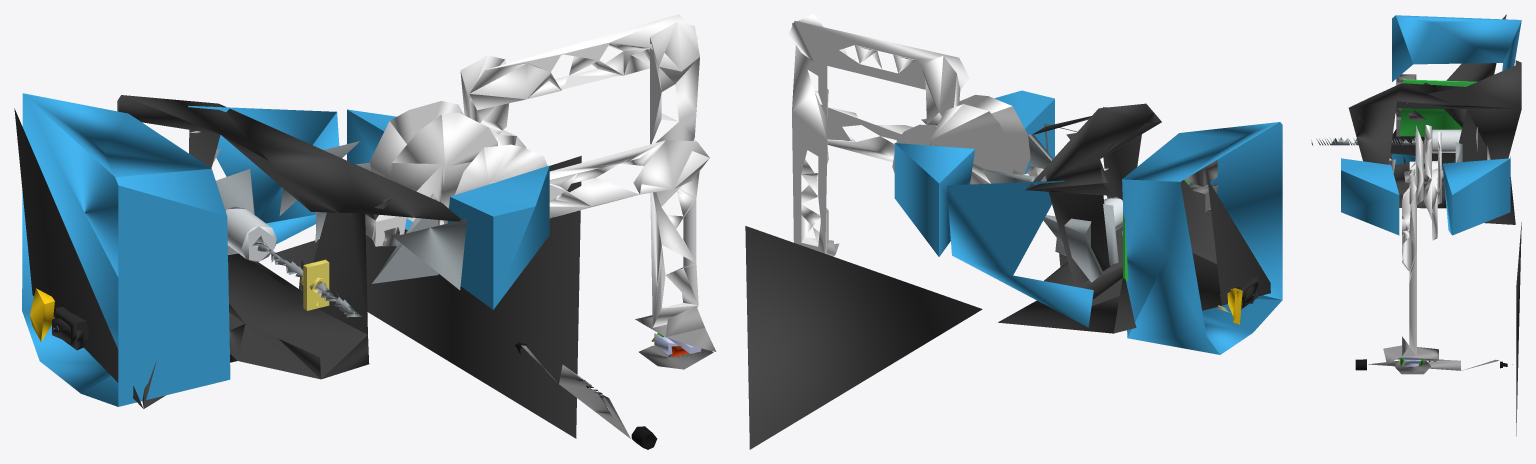
Rendered from model-lite.lod0.glb.
3 renders of one model, left to right at view 1: azimuth 30°, elevation 25°; view 2: azimuth 150°, elevation 25°; view 3: azimuth 270°, elevation 25°, orthographic. The views are drawn at different scales.
Parts seen in each view (by area): view 1: intframe (2), Body37, baseplate, lift stepper, Body3:22, Body1, lift brackety, Body1 (4), Body1:31, Body1:42; view 2: intframe (2), baseplate, Body37, lift stepper, Body3:22; view 3: intframe (2), lift stepper, Body37, baseplate, Body1, Body5, Body3:22, lift brackety.
Boxes of the visible parts, x1,y1,x2,y2 form: intframe (2): [22, 93, 549, 406]; Body37: [189, 14, 709, 327]; baseplate: [14, 108, 581, 438]; lift stepper: [117, 95, 462, 379]; Body3:22: [212, 141, 466, 317]; Body1: [365, 214, 716, 449]; lift brackety: [226, 206, 276, 262]; Body1 (4): [300, 259, 329, 310]; Body1:31: [52, 307, 88, 350]; Body1:42: [30, 288, 54, 341]; intframe (2): [894, 90, 1282, 354]; baseplate: [745, 179, 1270, 449]; Body37: [788, 14, 1218, 253]; lift stepper: [1025, 103, 1161, 305]; Body3:22: [981, 123, 1118, 282]; intframe (2): [1341, 15, 1521, 235]; lift stepper: [1348, 60, 1521, 208]; Body37: [1395, 74, 1441, 356]; baseplate: [1390, 14, 1521, 436]; Body1: [1355, 164, 1512, 374]; Body5: [1397, 79, 1477, 366]; Body3:22: [1311, 127, 1490, 173]; lift brackety: [1432, 129, 1461, 153].
Size of what is drawn, in the model's own units: 35.14 by 26.05 by 17.86.
